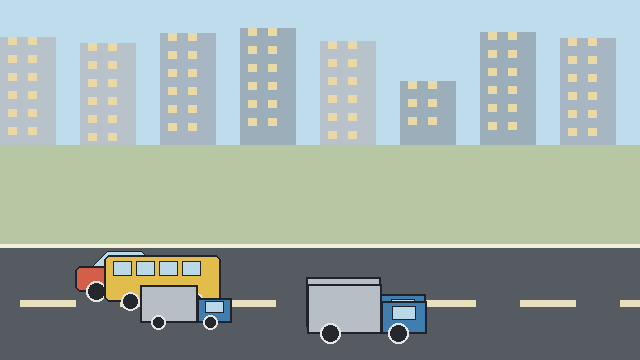bus: (104, 255, 220, 310)
car: (75, 251, 168, 301)
truck: (306, 277, 425, 336), (307, 284, 426, 343), (140, 285, 231, 329)
